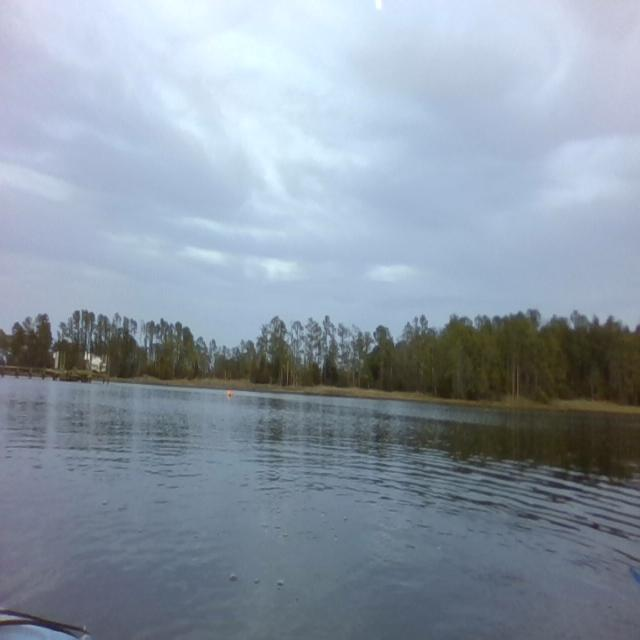Buoy: (226, 389, 233, 399)
